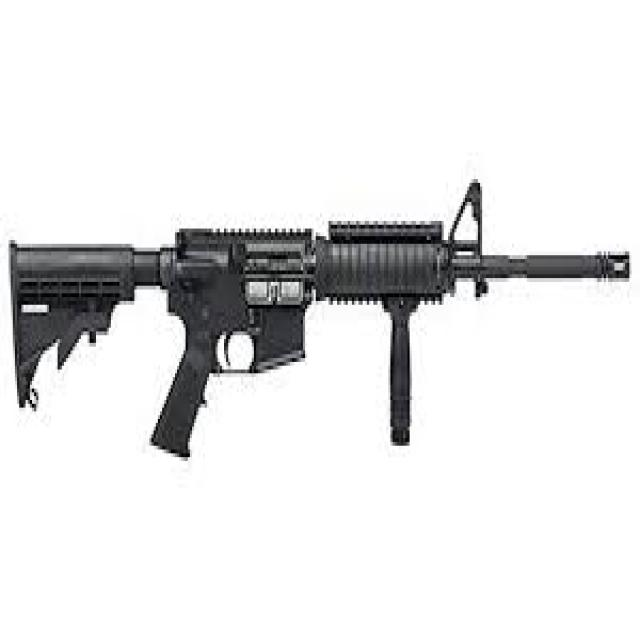rifle: (3, 161, 634, 484)
